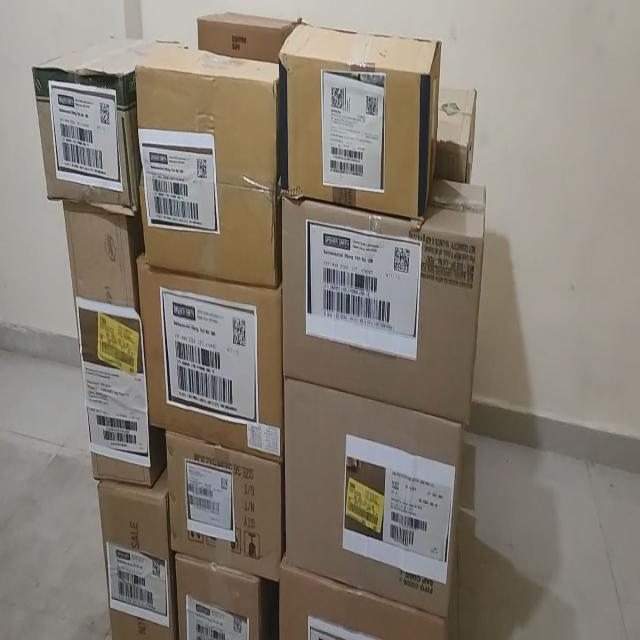BoxFace: (280, 177, 486, 424), (282, 375, 464, 621), (134, 44, 280, 288), (278, 19, 442, 221), (137, 252, 285, 460), (61, 199, 148, 487), (164, 428, 282, 582), (31, 60, 132, 216), (95, 470, 175, 638), (172, 552, 268, 637)
